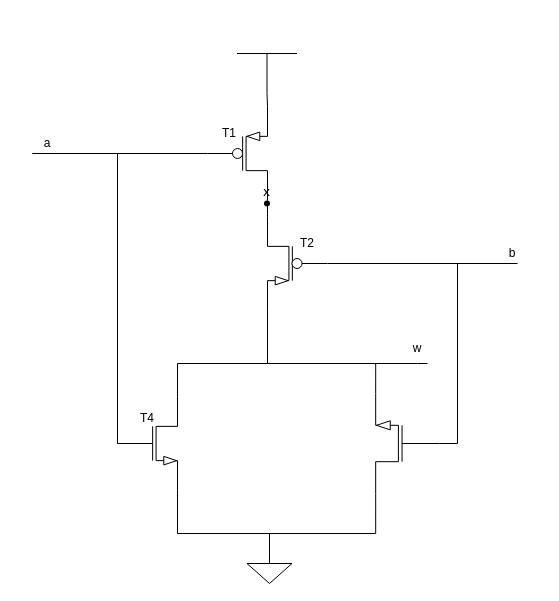
This 559x601 diagram has some shape labels left out. Each missing label, with the box of its shape:
T3: (332, 392, 482, 494)
V dd: (236, 52, 297, 94)
